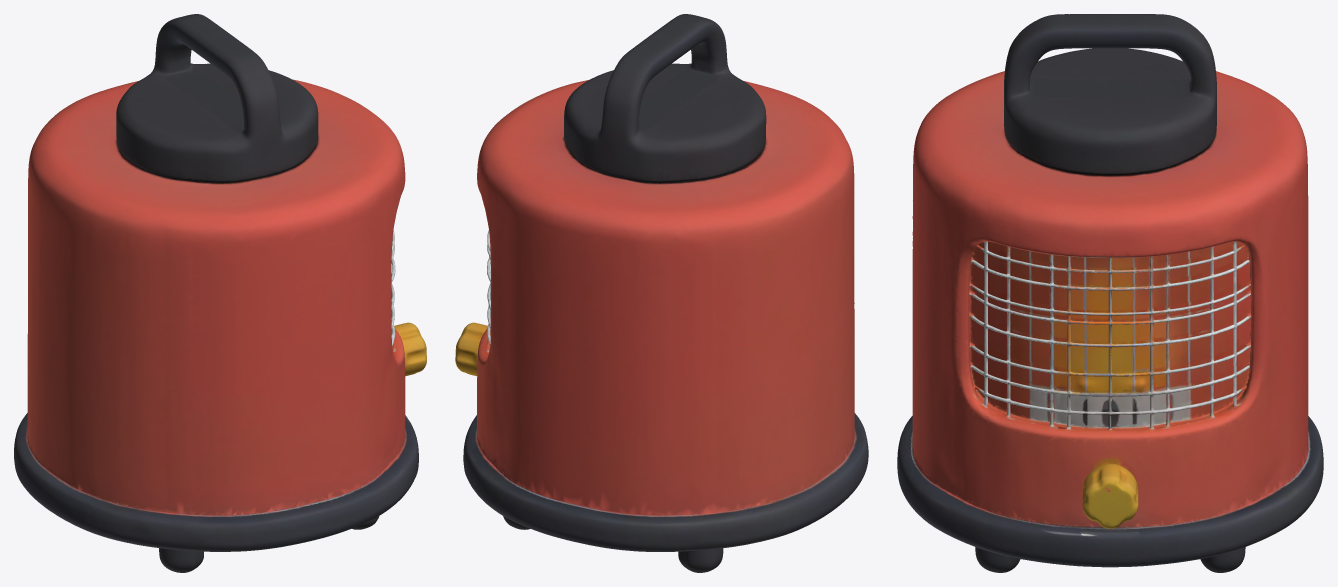
Rendered from CampHeater.glb.
3 views of the same model, side by side, from view 1: azimuth 30°, elevation 25°; view 2: azimuth 150°, elevation 25°; view 3: azimuth 270°, elevation 25° (orthographic). The views are drawn at different scales.
Visible parts, largest first — view 1: tripo_node_17ba8b60-cf17-4baf-95f6-abab998ffc83; view 2: tripo_node_17ba8b60-cf17-4baf-95f6-abab998ffc83; view 3: tripo_node_17ba8b60-cf17-4baf-95f6-abab998ffc83.
Part boxes in pixels (<box>): tripo_node_17ba8b60-cf17-4baf-95f6-abab998ffc83: <box>14,14,426,572</box>; tripo_node_17ba8b60-cf17-4baf-95f6-abab998ffc83: <box>455,14,868,572</box>; tripo_node_17ba8b60-cf17-4baf-95f6-abab998ffc83: <box>897,14,1323,572</box>.
Bounding box in the file's own units: 0.8241 × 0.9999 × 0.7651.
Materials: 1 (1 with a texture image).
